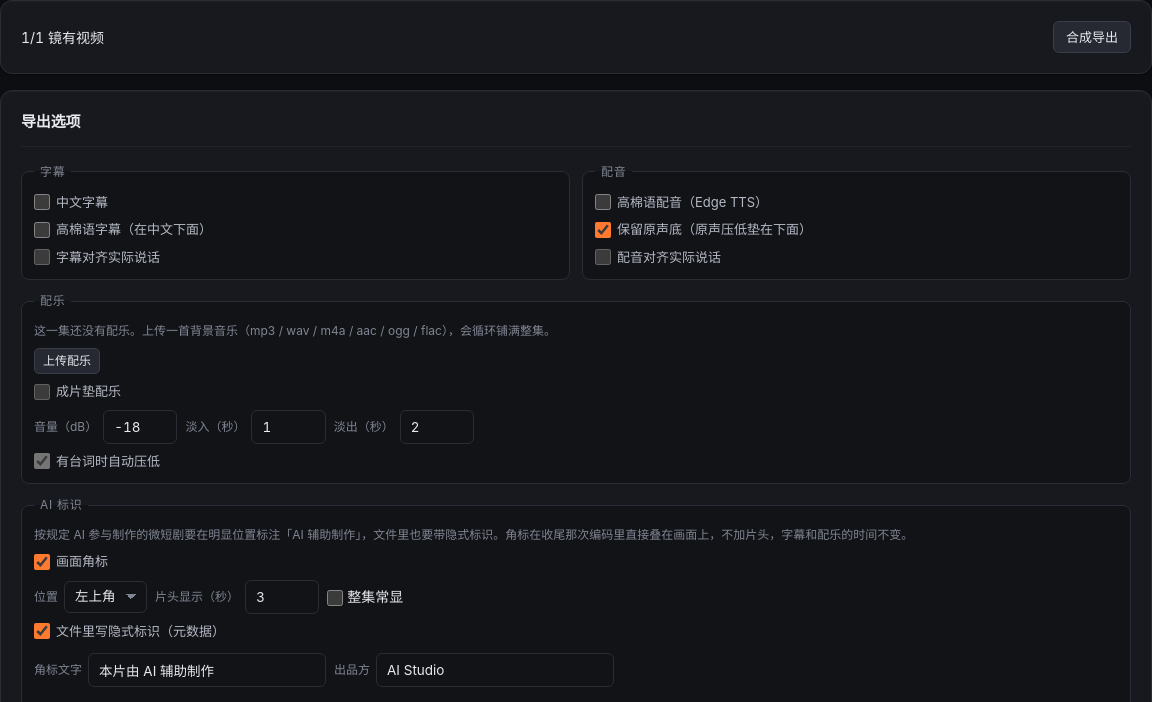
Test: ExportStage · AI 标识 › 关掉角标：位置不可选，并提示不合规
The image size is (1152, 702).
Expected: the text "1/1 镜有视频" is shown, [21, 26, 104, 48]
Click the checkbox labelled "画面角标".
click(42, 562)  # box [34, 554, 50, 570]
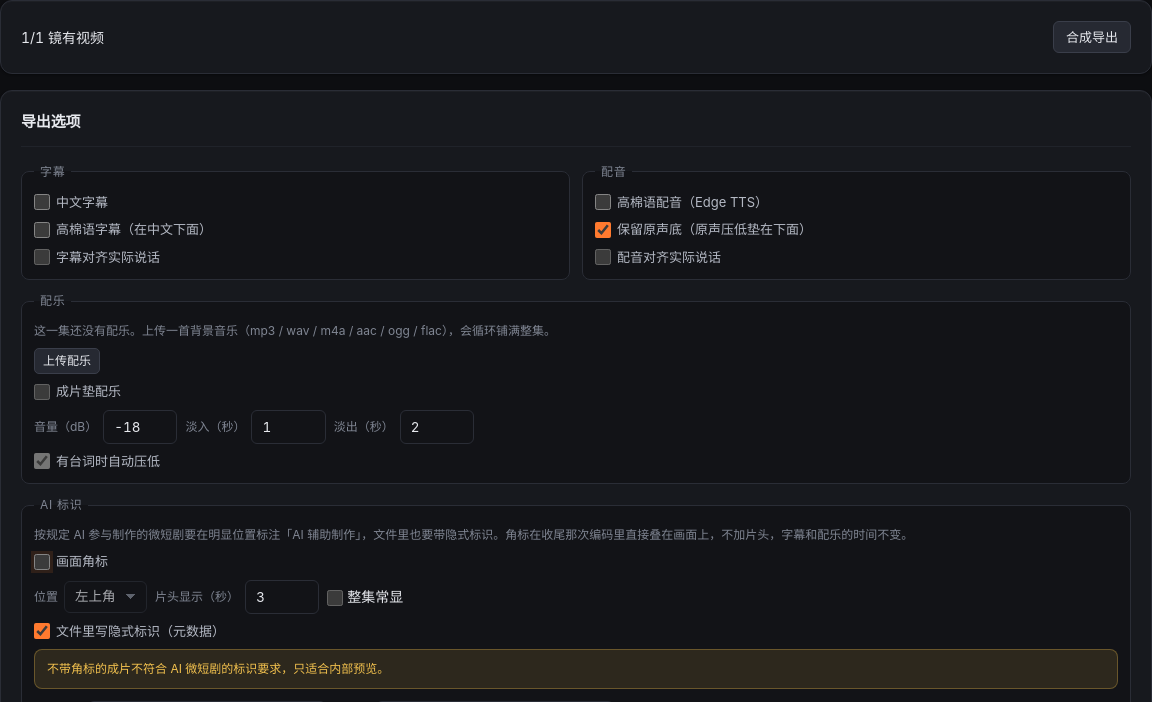
Now the dropdown named "角标位置" is disabled, box [64, 580, 147, 612]
Now the text "不带角标的成片不符合 AI 微短剧的标识要求，只适合内部预览。" is shown, box [34, 649, 1118, 689]
